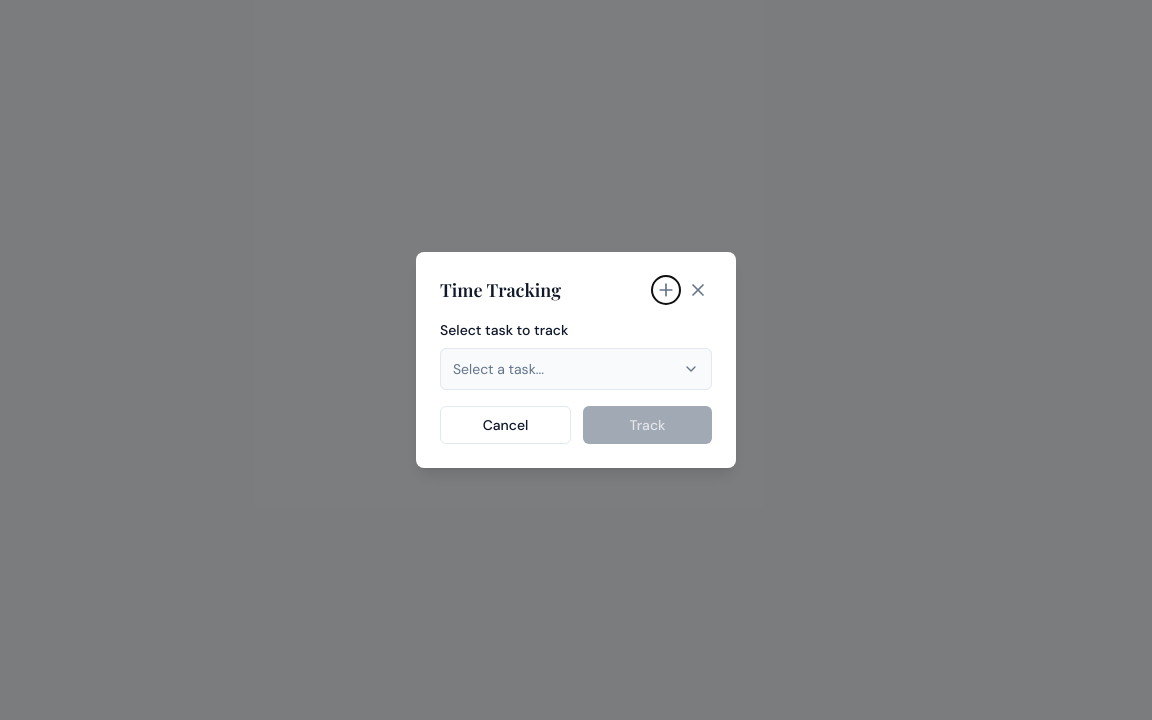
Test case: TimeTrackingModal › manual entry state › should transition to manual state when + button clicked (AC #2)
Click the button named "Add manual time entry".
click(666, 290)  # box top-left (652, 276), bottom-right (680, 304)
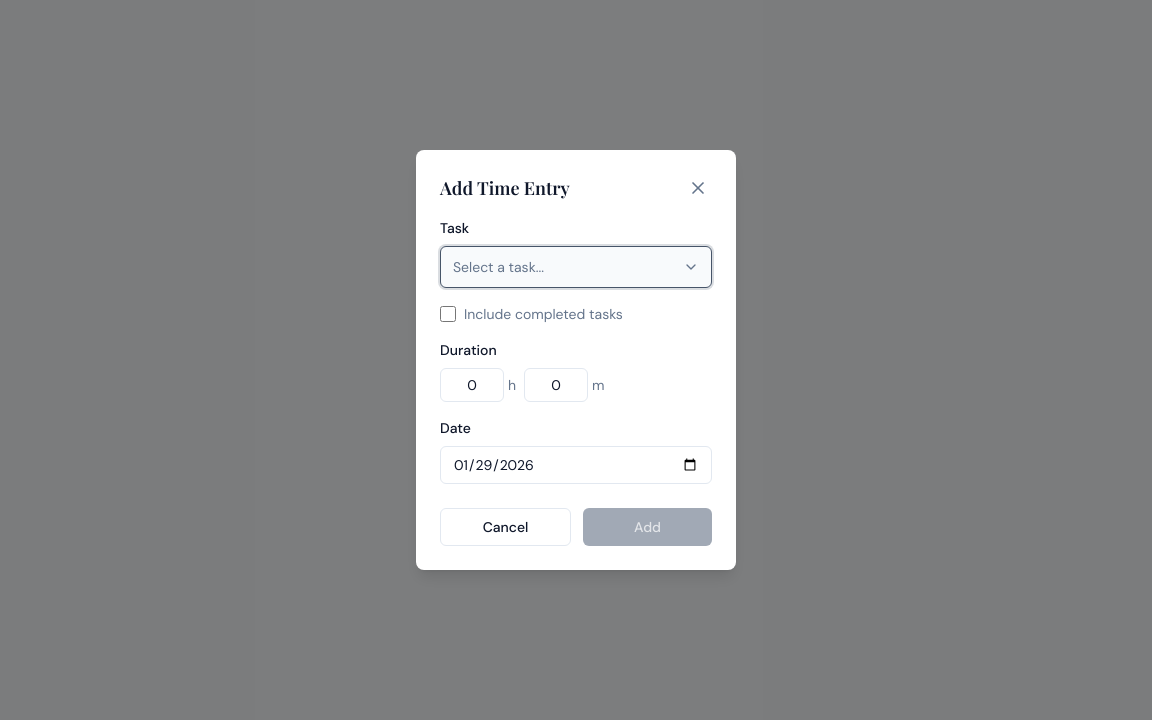
Result: the heading "Add Time Entry" is shown at top-left (440, 174), bottom-right (570, 202)
